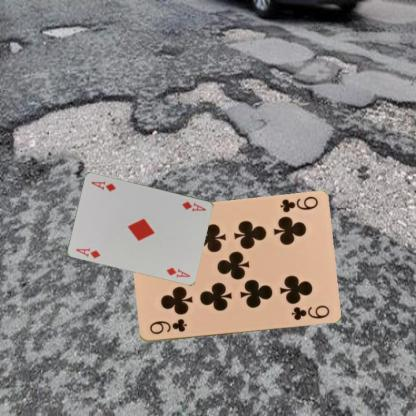9c: (276, 194, 320, 214), (147, 316, 188, 336)
Ad: (73, 245, 102, 259), (180, 198, 207, 213)
